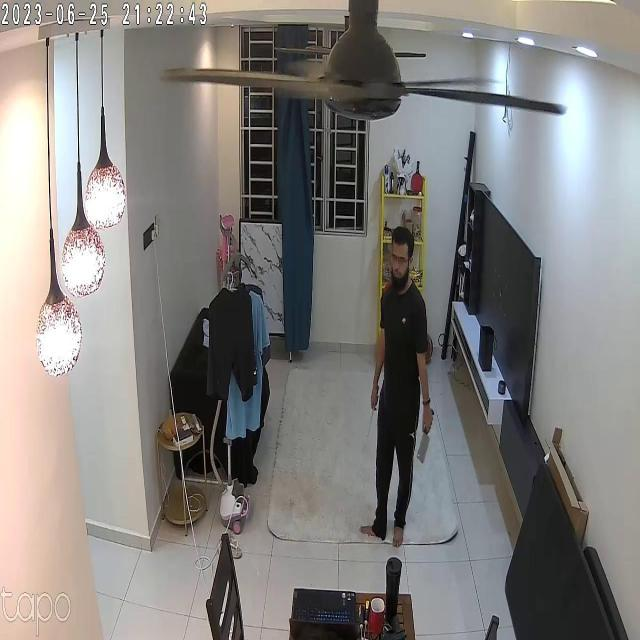Knife: (416, 412, 441, 468)
